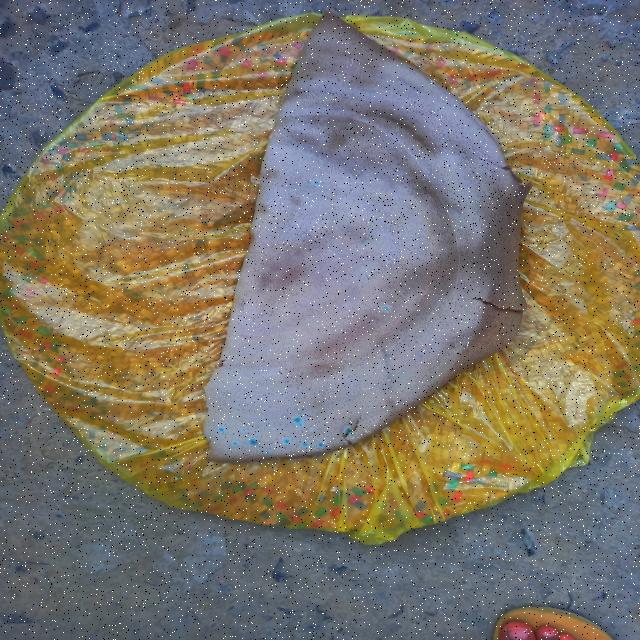injera_mold: (294, 417, 304, 427), (248, 438, 259, 446), (429, 78, 436, 87), (345, 427, 351, 435), (283, 438, 290, 444), (363, 430, 372, 434), (318, 442, 324, 447), (383, 306, 390, 310), (313, 449, 322, 452), (265, 450, 270, 455), (303, 442, 309, 446), (237, 455, 245, 458), (298, 453, 304, 457), (351, 59, 354, 67), (455, 338, 457, 349), (337, 442, 342, 446), (314, 180, 319, 184), (305, 450, 311, 453), (233, 441, 237, 445), (220, 428, 225, 431), (344, 440, 347, 445), (467, 342, 469, 349), (464, 336, 478, 337), (359, 59, 361, 66), (242, 429, 246, 432), (346, 50, 349, 54), (310, 428, 313, 432), (293, 454, 297, 457), (354, 438, 359, 440), (352, 441, 355, 444), (277, 453, 280, 456), (327, 447, 331, 449), (285, 456, 289, 457), (464, 348, 466, 350), (346, 66, 348, 68), (342, 65, 343, 68)
